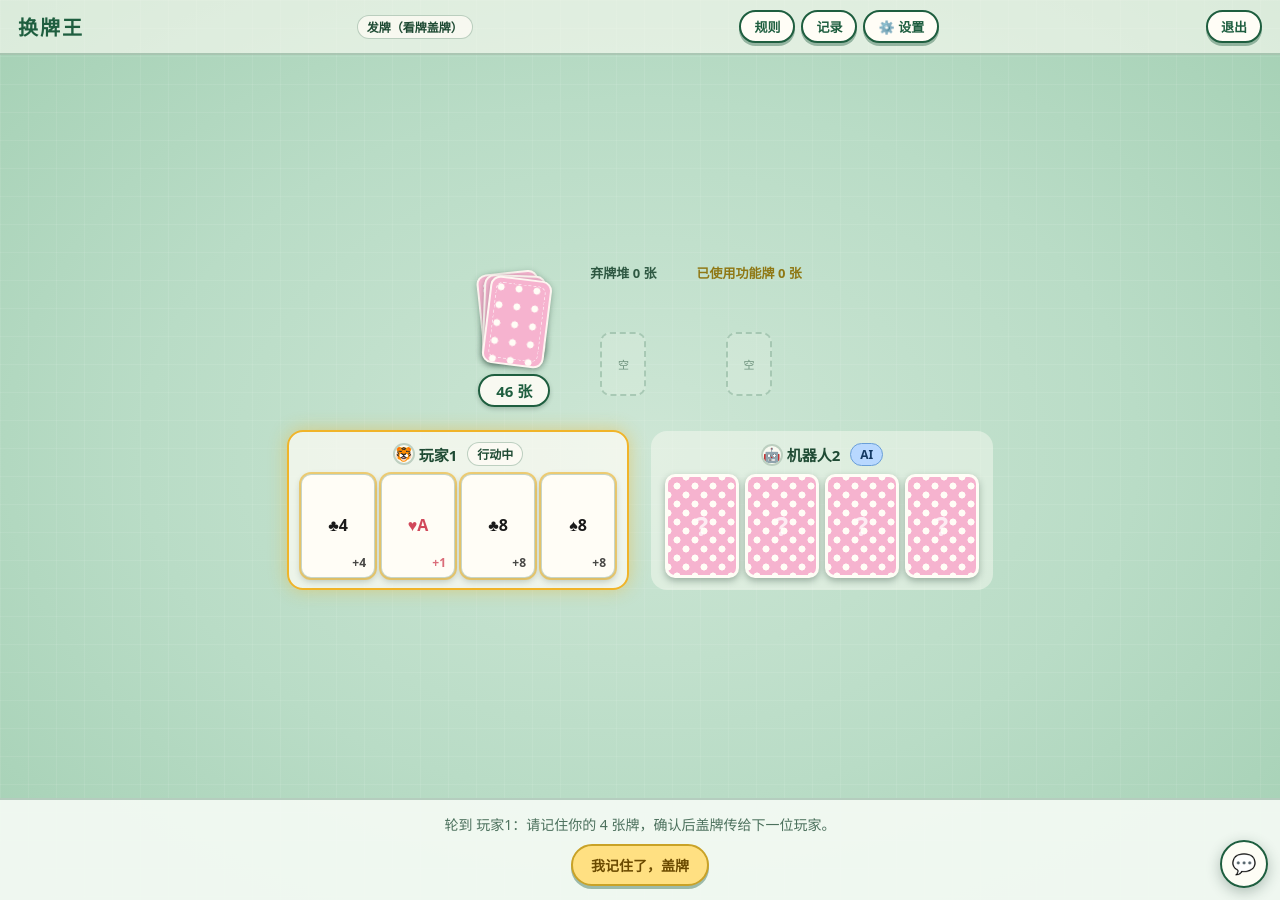
Test: GameScreen 发牌阶段信息隐藏 › 发牌阶段：真人当前玩家亮自己的 4 张，机器人看牌时全程背面
Note: 玩家1 盖牌 → currentPlayer 切到机器人2（发牌看牌阶段，600ms 后自动确认）
Click the button "我记住了，盖牌" at x=640, y=865, box [571,844,709,886]
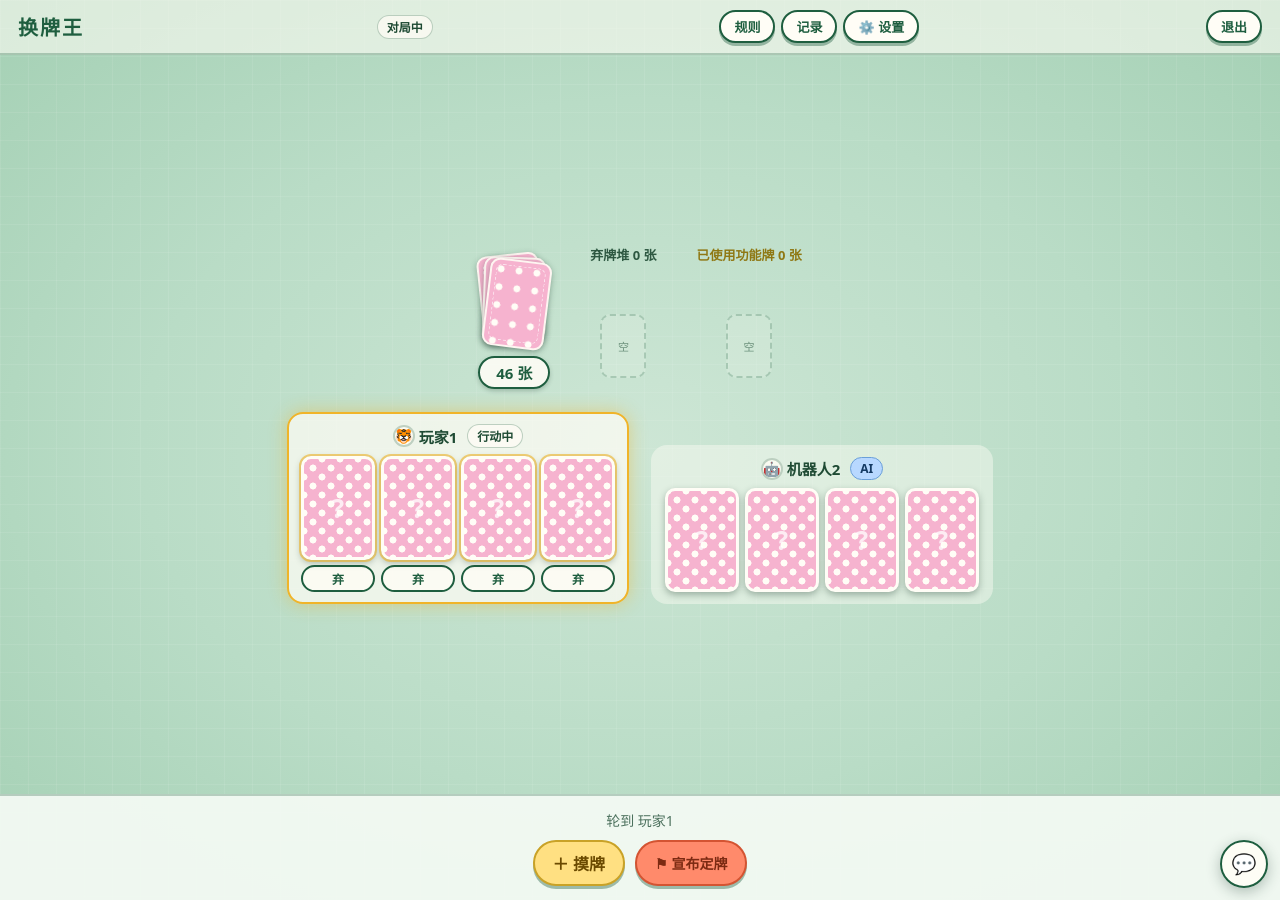
Expected: the button "＋ 摸牌" is shown, [532,840,625,886]
